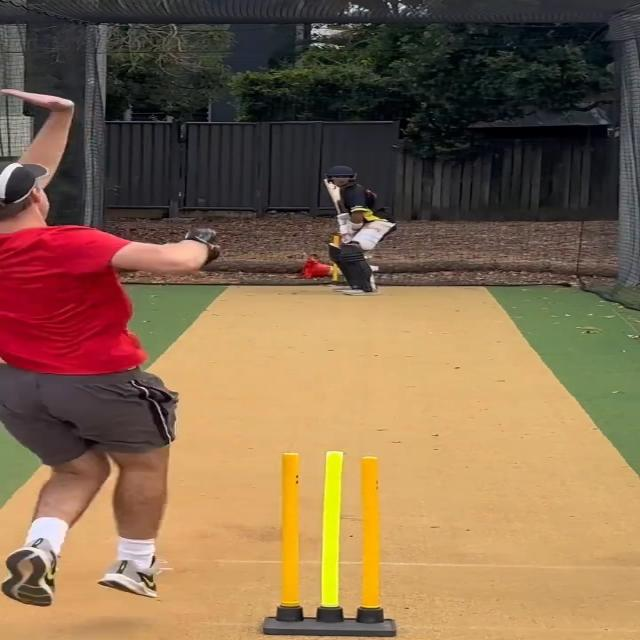stump: (257, 451, 398, 637)
